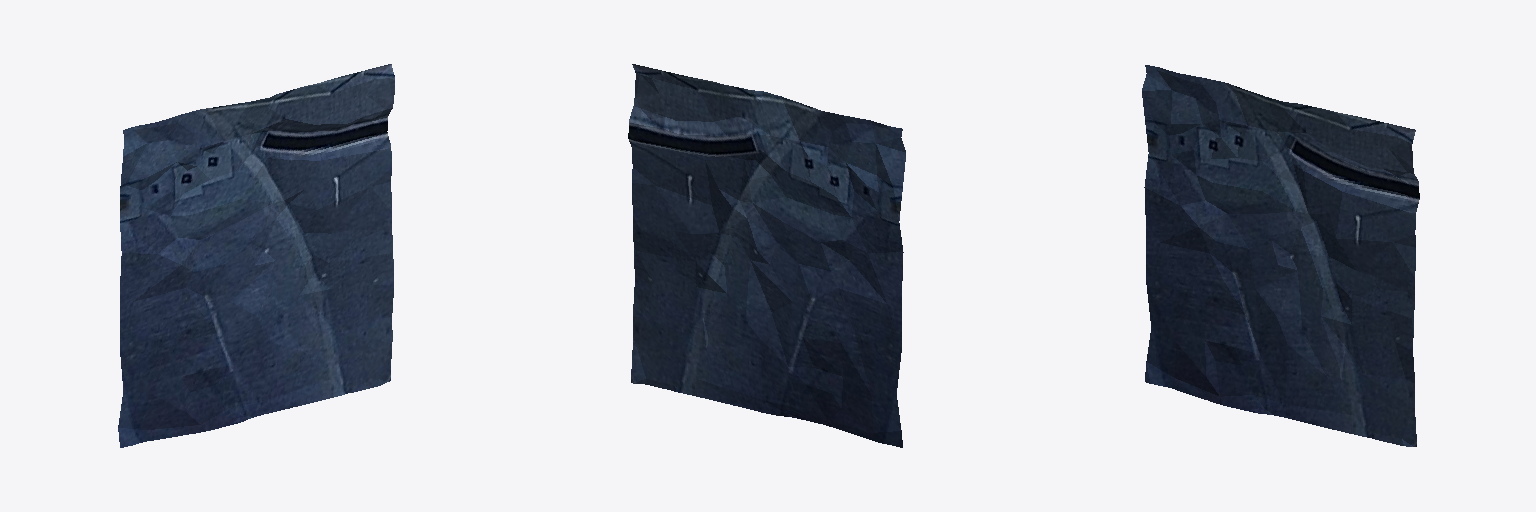
3 views of the same model, side by side, from view 1: azimuth 30°, elevation 25°; view 2: azimuth 150°, elevation 25°; view 3: azimuth 330°, elevation 25° (orthographic).
Visible parts, largest first — view 1: obj_0; view 2: obj_0; view 3: obj_0.
Boxes of the visible parts, x1,y1,x2,y2 form: obj_0: [118, 64, 394, 447]; obj_0: [628, 64, 905, 447]; obj_0: [1142, 65, 1419, 446].
Size of the model in its own units: 10.05 by 11.26 by 0.563.
1 materials, 1 textured.